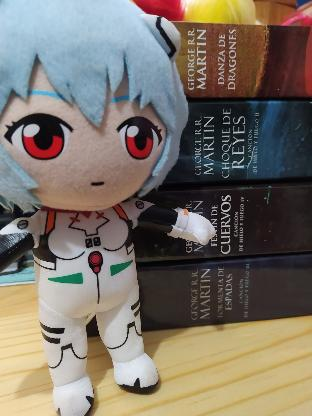rei-plush: (0, 0, 214, 410)
